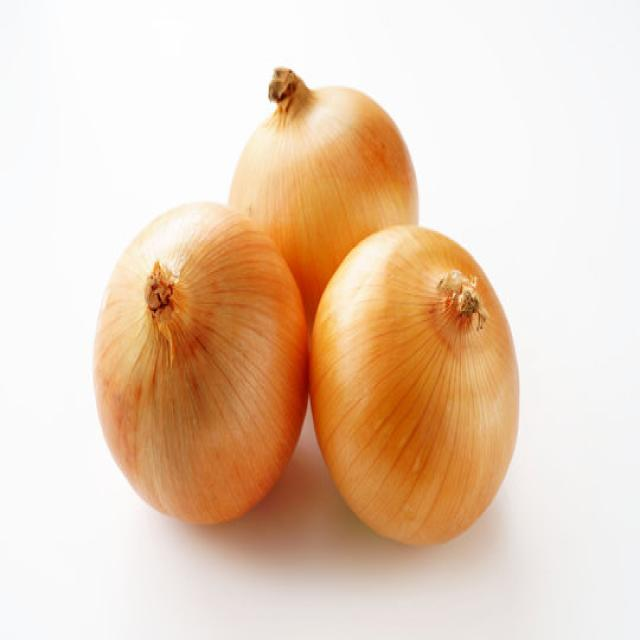Onion: (92, 199, 310, 525), (308, 222, 519, 546), (226, 64, 418, 325)
